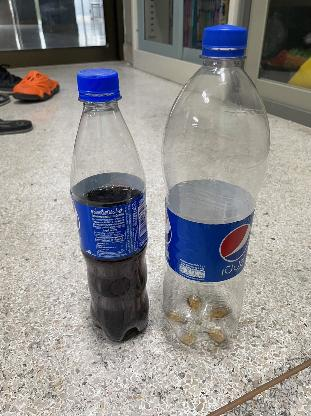Plastic Bottle: (162, 24, 270, 350), (70, 72, 150, 344)
